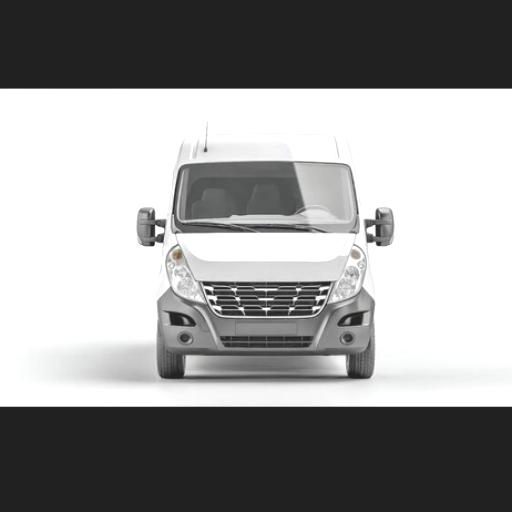van: (139, 134, 393, 376)
